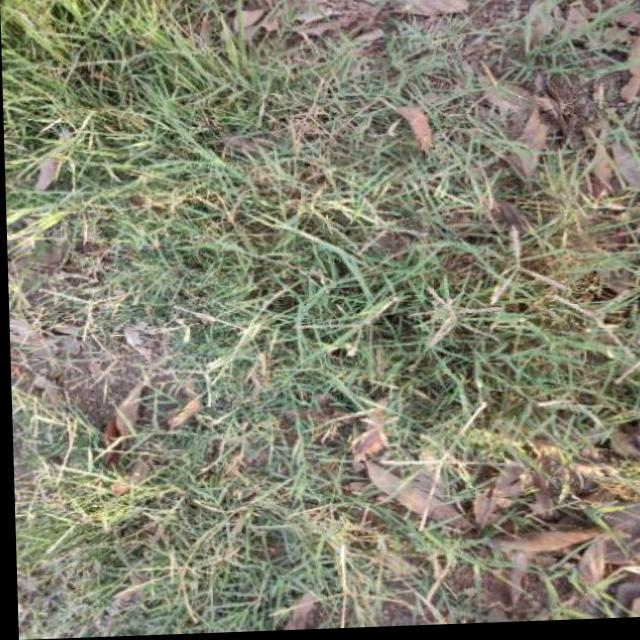weed: (33, 3, 596, 558)
